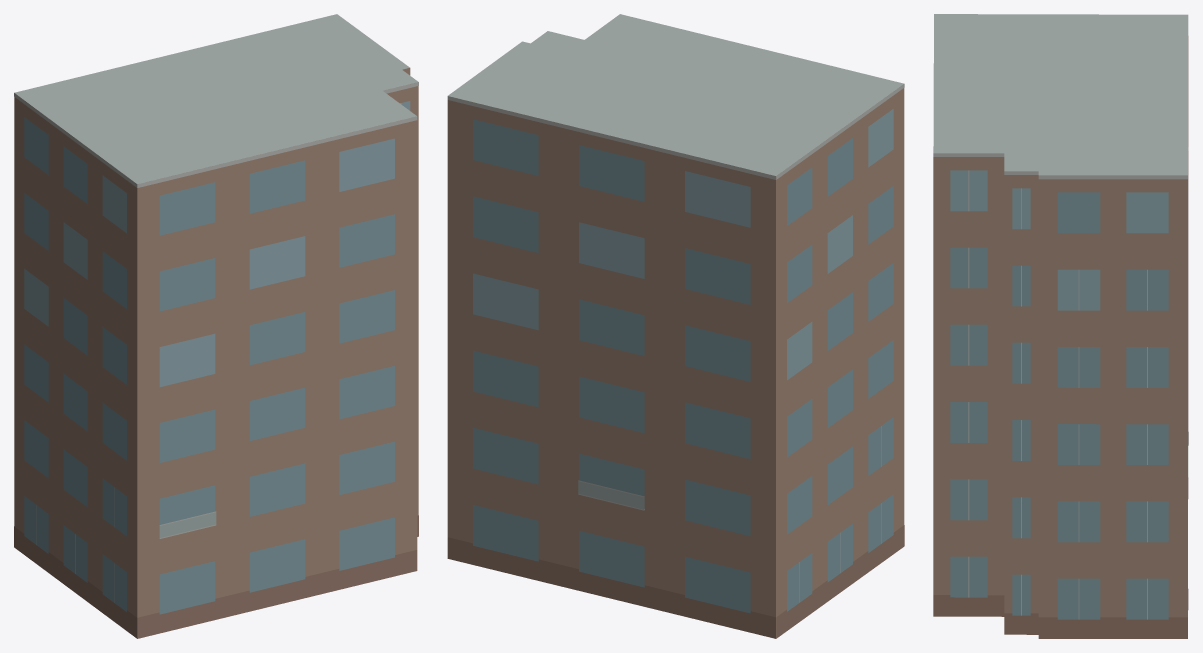
Rendered from survey-upis-33019614.glb.
The picture shows the model from 3 angles, left to right: view 1: azimuth 30°, elevation 25°; view 2: azimuth 150°, elevation 25°; view 3: azimuth 270°, elevation 25°; orthographic projection.
Parts seen in each view (by area): view 1: survey-upis-33019614.tmp; view 2: survey-upis-33019614.tmp; view 3: survey-upis-33019614.tmp.
Boxes of the visible parts, x1,y1,x2,y2 form: survey-upis-33019614.tmp: (14, 14, 418, 638); survey-upis-33019614.tmp: (447, 14, 904, 638); survey-upis-33019614.tmp: (933, 14, 1188, 638).
Size of the model in its own units: 21.58 by 28.9 by 14.45.
